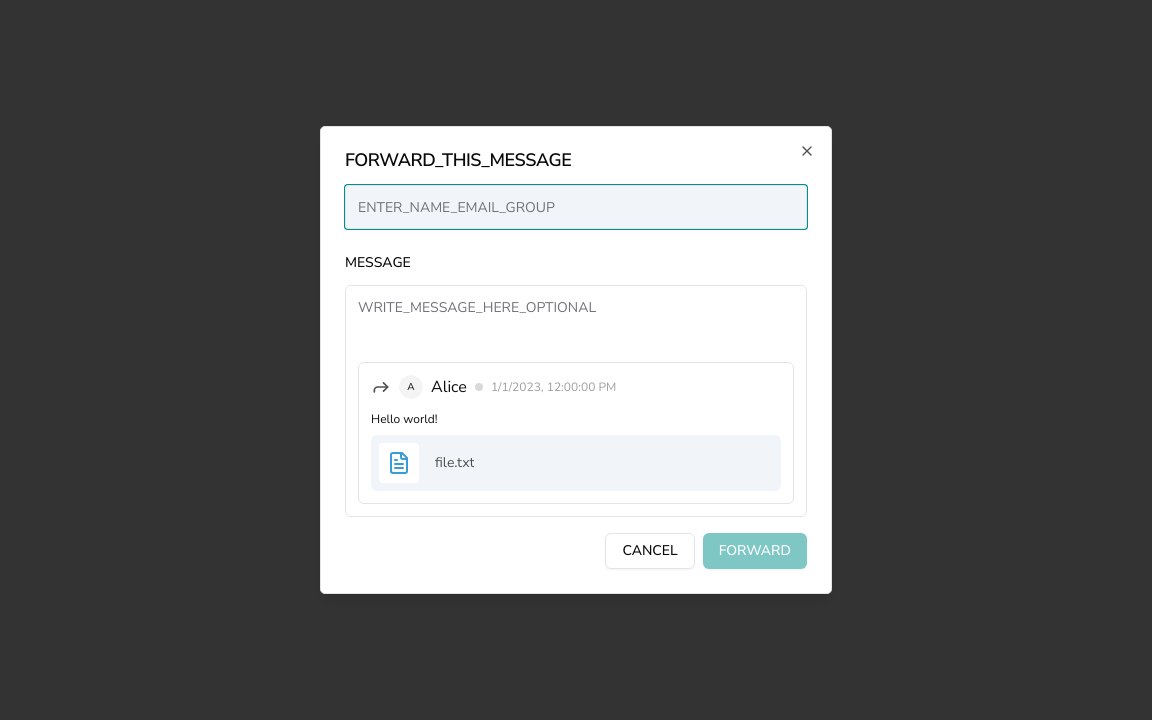
it: ForwardMessage › disables forward button if recipient is empty
Expected: the button "FORWARD" is disabled, left=703, top=533, right=807, bottom=569
Type "Bob" into the field with placeholder "ENTER_NAME_EMAIL_GROUP" at [576, 207], box left=345, top=185, right=807, bottom=229
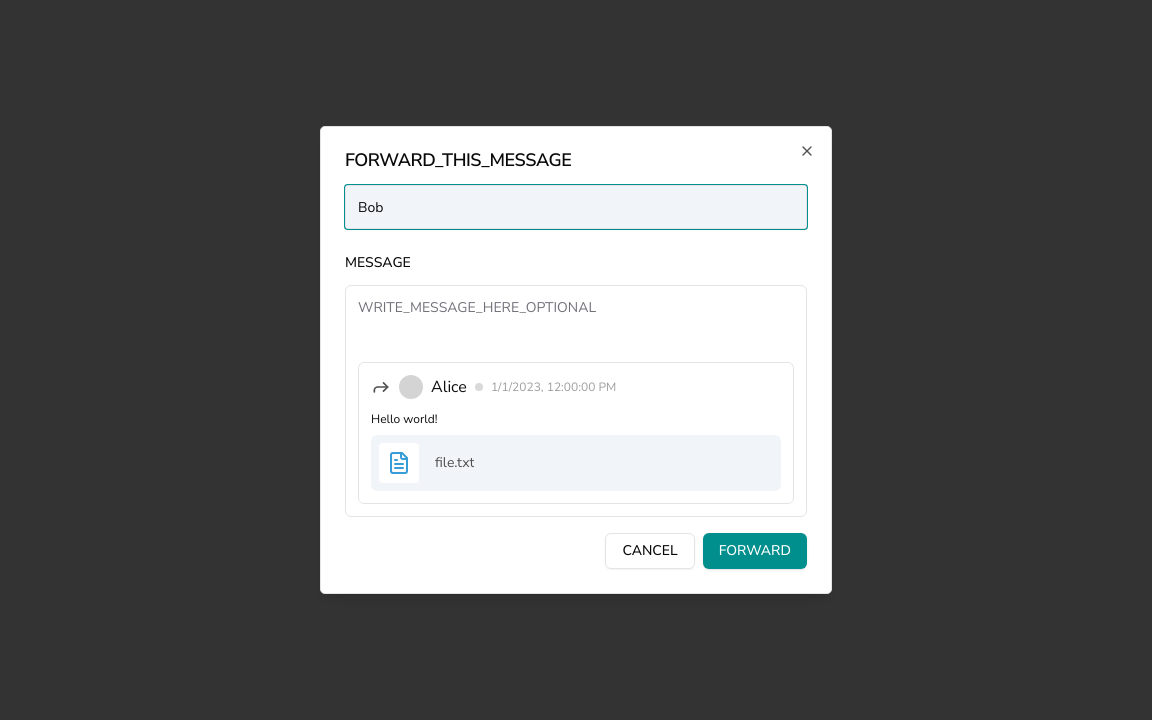
Now the button "FORWARD" is enabled, box left=703, top=533, right=807, bottom=569
